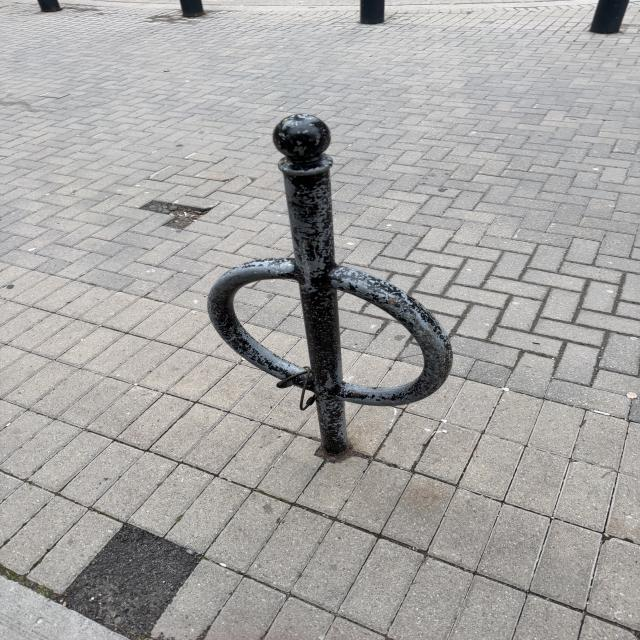Bicycle Rack: (205, 114, 450, 452)
